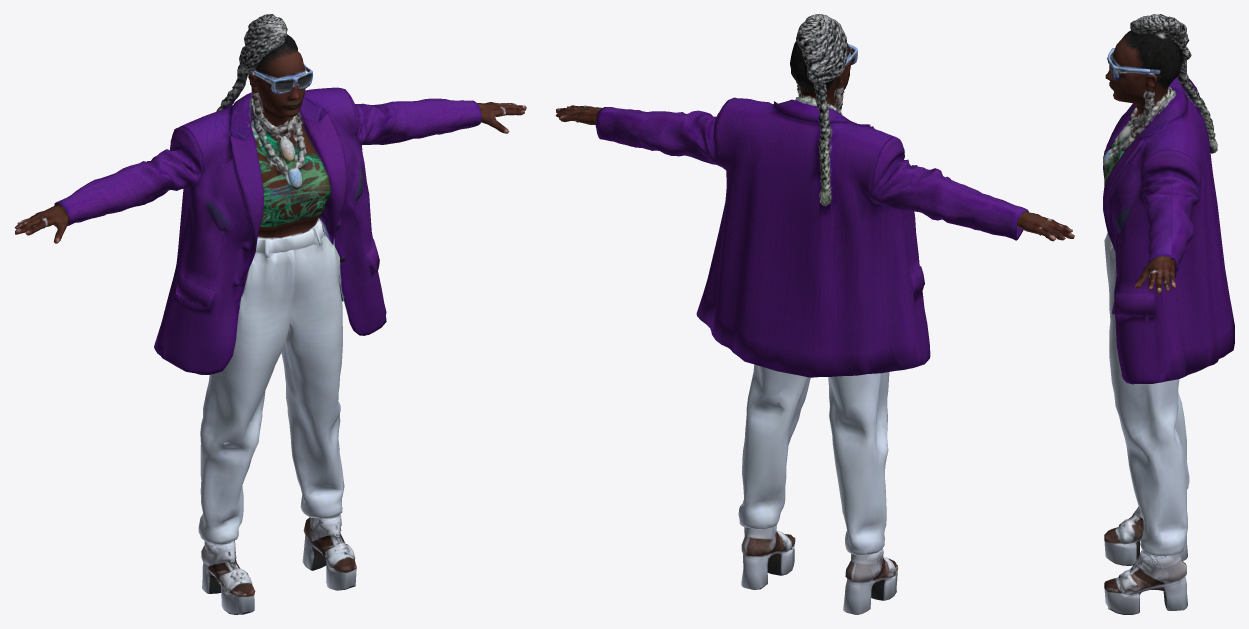
Rendered from tripo_convert_c5fa3aab-73ad-4057-a1e1-c6aa5923ce19.glb.
The picture shows the model from 3 angles, left to right: view 1: azimuth 30°, elevation 25°; view 2: azimuth 150°, elevation 25°; view 3: azimuth 270°, elevation 25°; orthographic projection.
Visible parts, largest first — view 1: tripo_node_c5fa3aab-73ad-4057-a1e1-c6aa5923ce19; view 2: tripo_node_c5fa3aab-73ad-4057-a1e1-c6aa5923ce19; view 3: tripo_node_c5fa3aab-73ad-4057-a1e1-c6aa5923ce19.
Boxes of the visible parts, x1,y1,x2,y2 form: tripo_node_c5fa3aab-73ad-4057-a1e1-c6aa5923ce19: (14,14,526,614); tripo_node_c5fa3aab-73ad-4057-a1e1-c6aa5923ce19: (555,14,1074,614); tripo_node_c5fa3aab-73ad-4057-a1e1-c6aa5923ce19: (1103,14,1234,614).
Bounding box in the file's own units: 0.9174 × 0.9786 × 0.2049.
Materials: 1 (1 with a texture image).
